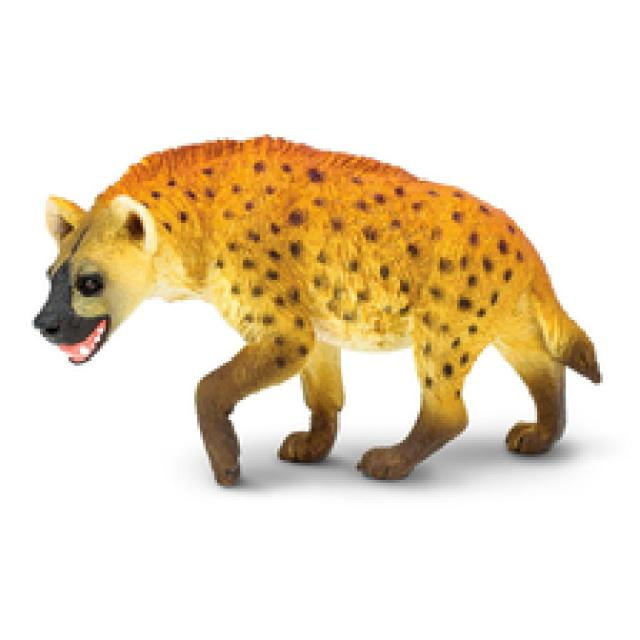hyena: (29, 101, 624, 486)
